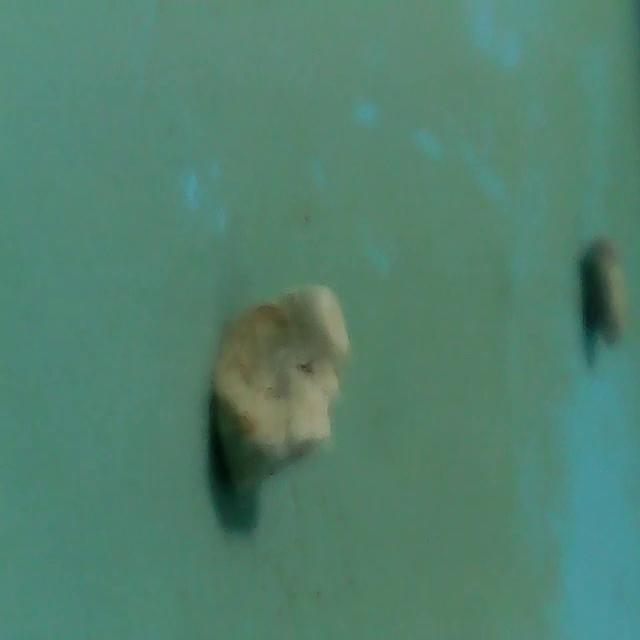rock: (203, 279, 365, 484)
